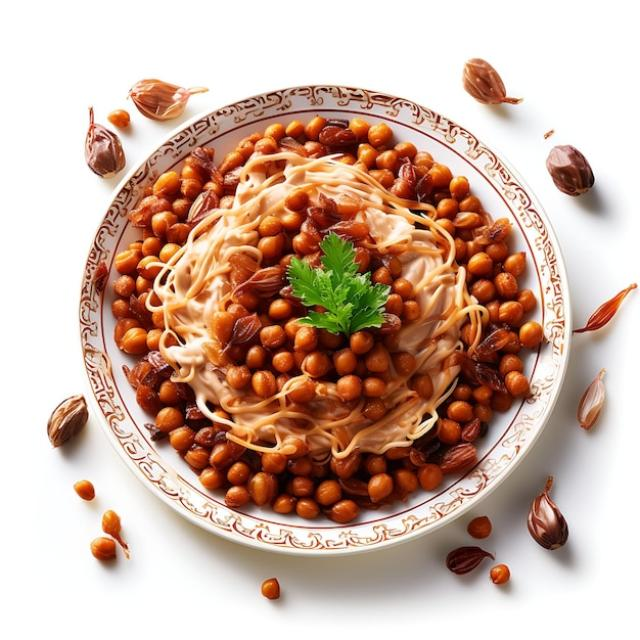koshary: (58, 72, 573, 543)
